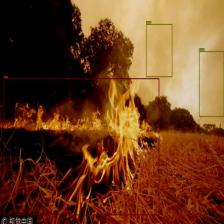fire: (4, 78, 159, 215)
smoke: (199, 51, 224, 117), (146, 24, 172, 77)
